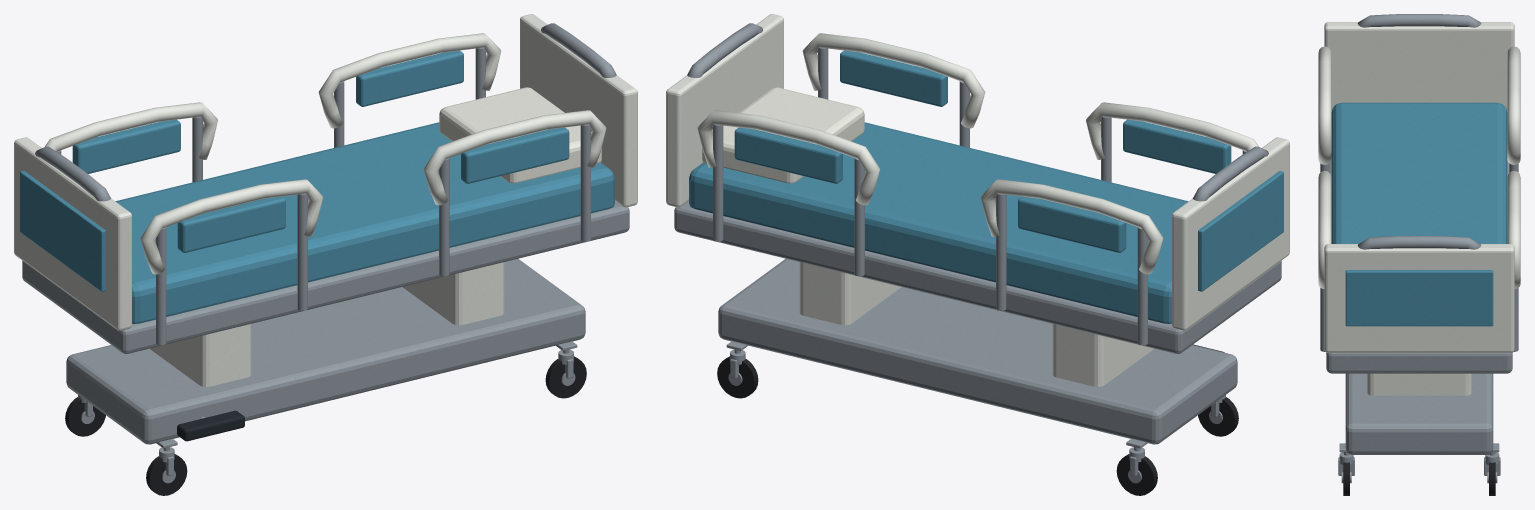
File: transport-stretcher.glb
The picture shows the model from 3 angles, left to right: view 1: azimuth 30°, elevation 25°; view 2: azimuth 150°, elevation 25°; view 3: azimuth 270°, elevation 25°; orthographic projection. The views are drawn at different scales.
Parts seen in each view (by area): view 1: Patient mattress, Patient bed rolling base, Bed mattress platform, Bed end panel.001, Bed end panel, Inset end panel, Bed pillow, Lift pedestal.001, Lift pedestal, Side rail center panel.001, Side rail center panel, Side rail center panel.003 (+16 smaller); view 2: Patient mattress, Patient bed rolling base, Bed mattress platform, Bed end panel.001, Bed end panel, Inset end panel, Bed pillow, Lift pedestal.001, Lift pedestal, Side rail center panel.003, Side rail center panel.002, Side rail center panel.001 (+15 smaller); view 3: Patient mattress, Bed end panel, Bed end panel.001, Patient bed rolling base, Inset end panel.001, Bed mattress platform, Lift pedestal.001, Bed side safety rail, Bed side safety rail.002, End lifting grip.001, End lifting grip, Bed side safety rail.001 (+5 smaller).
Part boxes in pixels (box(x1,y1,x2,y2)): Patient mattress: box(115, 122, 614, 323); Patient bed rolling base: box(66, 259, 585, 444); Bed mattress platform: box(22, 201, 629, 353); Bed end panel.001: box(520, 14, 637, 207); Bed end panel: box(14, 137, 131, 330); Inset end panel: box(20, 171, 105, 291); Bed pillow: box(439, 87, 601, 183); Lift pedestal.001: box(402, 262, 504, 325); Lift pedestal: box(150, 324, 251, 386); Side rail center panel.001: box(461, 127, 569, 183); Side rail center panel: box(177, 196, 285, 252); Side rail center panel.003: box(356, 50, 463, 106); Patient mattress: box(689, 122, 1188, 323); Patient bed rolling base: box(718, 259, 1237, 444); Bed mattress platform: box(674, 201, 1281, 353); Bed end panel.001: box(666, 14, 783, 207); Bed end panel: box(1172, 137, 1289, 330); Inset end panel: box(1198, 171, 1283, 291); Bed pillow: box(702, 87, 864, 183); Lift pedestal.001: box(799, 262, 901, 325); Lift pedestal: box(1052, 324, 1153, 386); Side rail center panel.003: box(734, 127, 842, 183); Side rail center panel.002: box(1018, 196, 1126, 252); Side rail center panel.001: box(840, 50, 947, 106); Patient mattress: box(1331, 102, 1507, 243); Bed end panel: box(1324, 22, 1514, 111); Bed end panel.001: box(1324, 244, 1514, 352); Patient bed rolling base: box(1345, 373, 1493, 454); Inset end panel.001: box(1345, 270, 1493, 326); Bed mattress platform: box(1326, 160, 1512, 373); Lift pedestal.001: box(1367, 373, 1471, 395); Bed side safety rail: box(1318, 46, 1331, 164); Bed side safety rail.002: box(1507, 46, 1520, 164); End lifting grip.001: box(1357, 236, 1481, 249); End lifting grip: box(1357, 14, 1481, 27); Bed side safety rail.001: box(1318, 171, 1331, 288).
Bounding box in the file's own units: 2.1 × 1.18 × 0.77.
6 materials, 6 textured.
